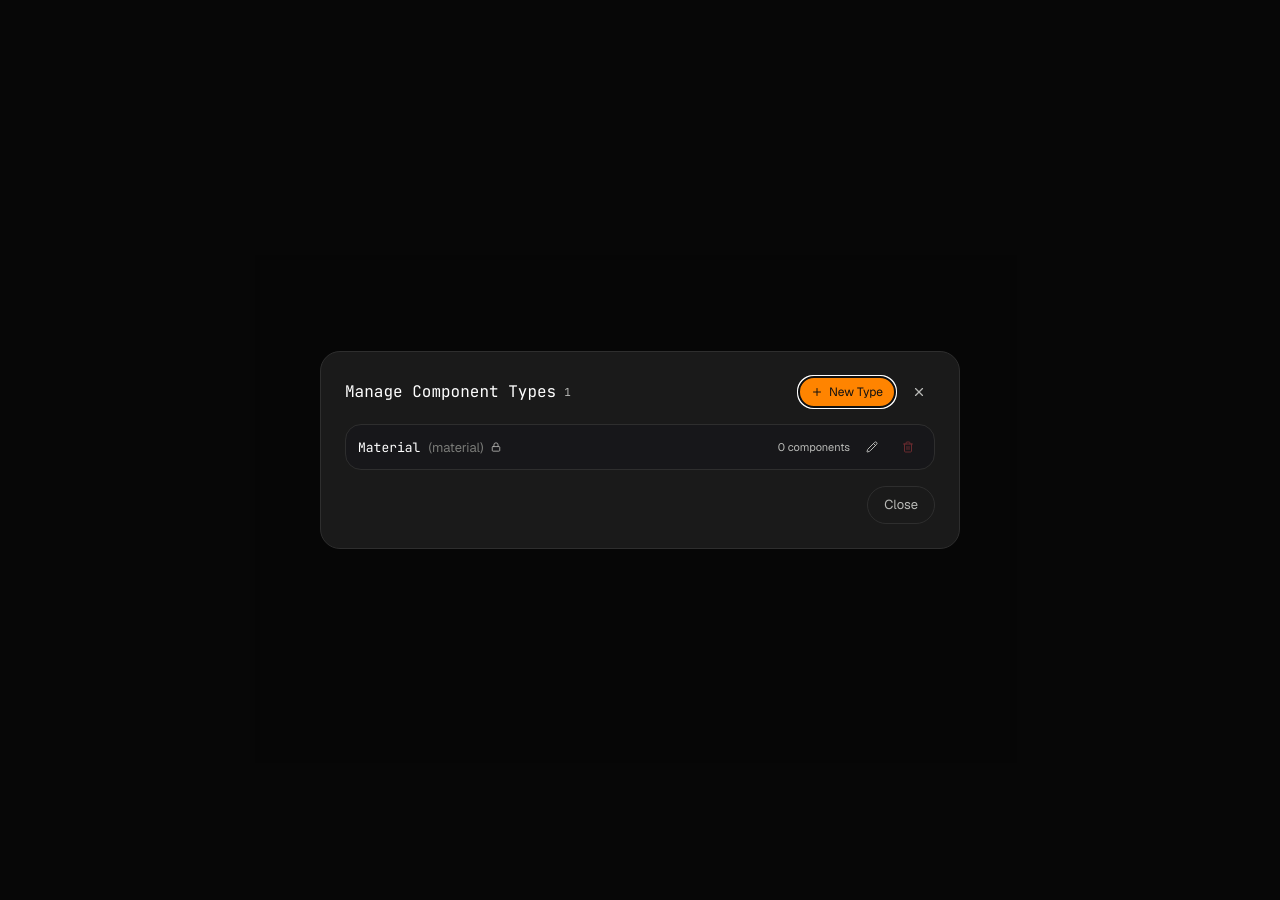
ComponentTypeManagementDialog › pencil icon on a row opens the Edit dialog with that type
Step 1. Click the button titled "Edit Material" → point(872, 447), box x1=858 y1=433 x2=886 y2=461
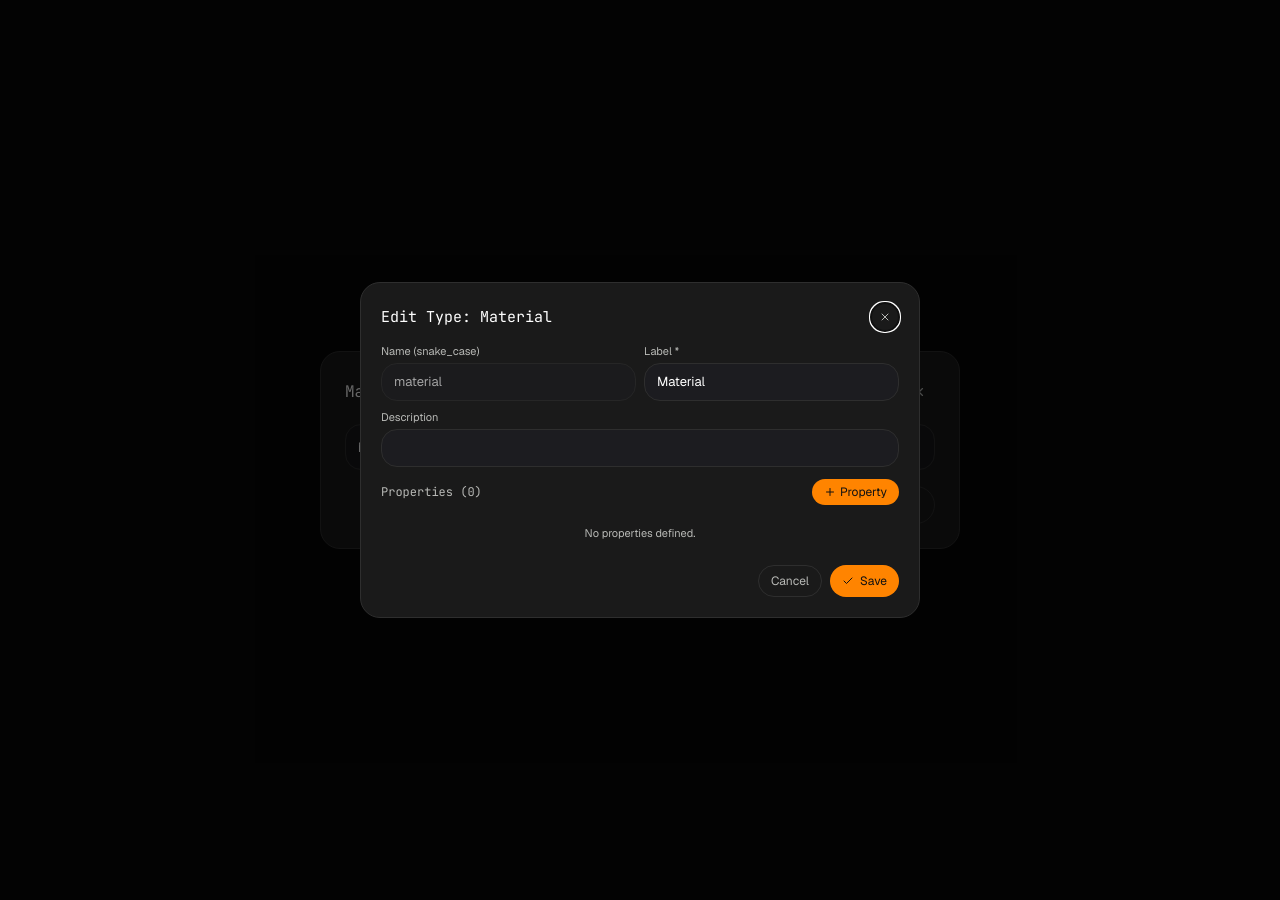
Result: the text "Edit Type: Material" is shown at x1=381 y1=306 x2=552 y2=328
